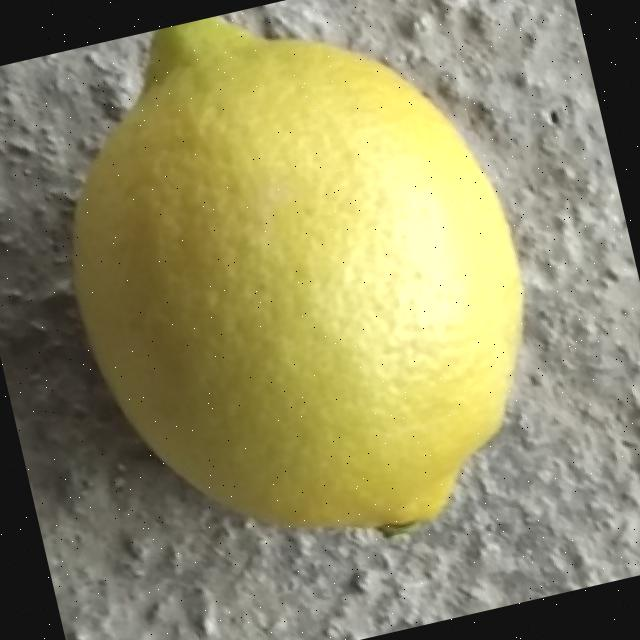Lemon: (19, 0, 576, 593)
